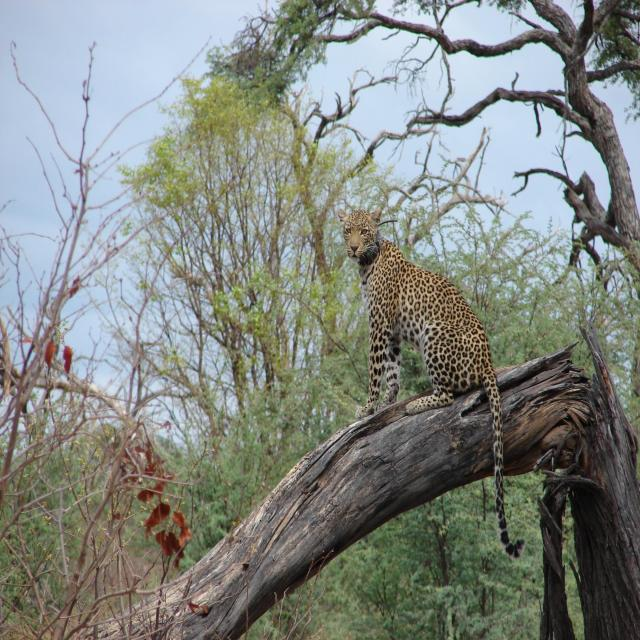Leopard: (340, 203, 527, 591)
